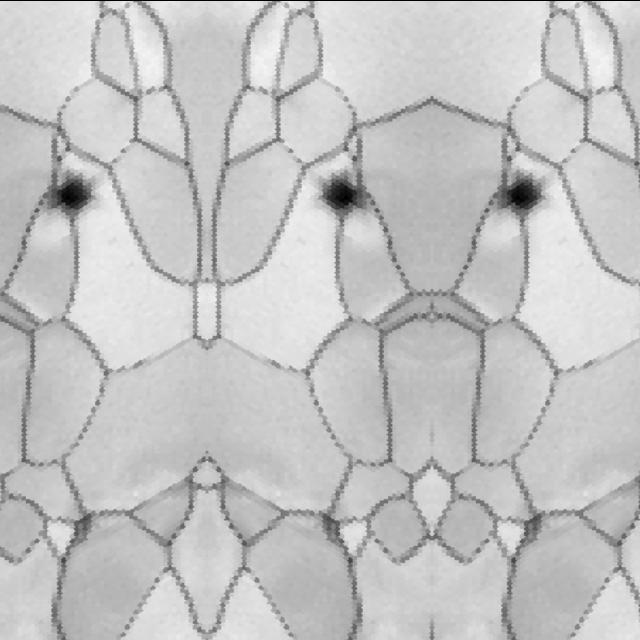good_void: (306, 164, 377, 228), (489, 164, 560, 228), (38, 164, 109, 228), (321, 505, 345, 548), (521, 505, 545, 548), (70, 505, 94, 548)
